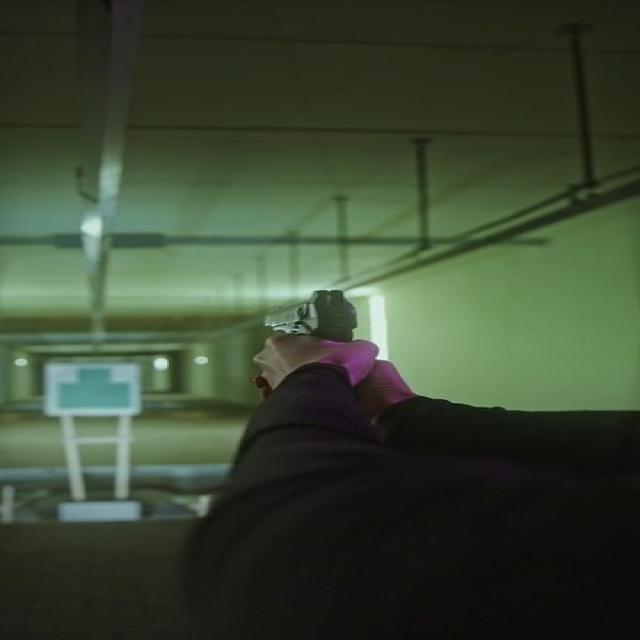Gun_Holder: (222, 279, 460, 436)
